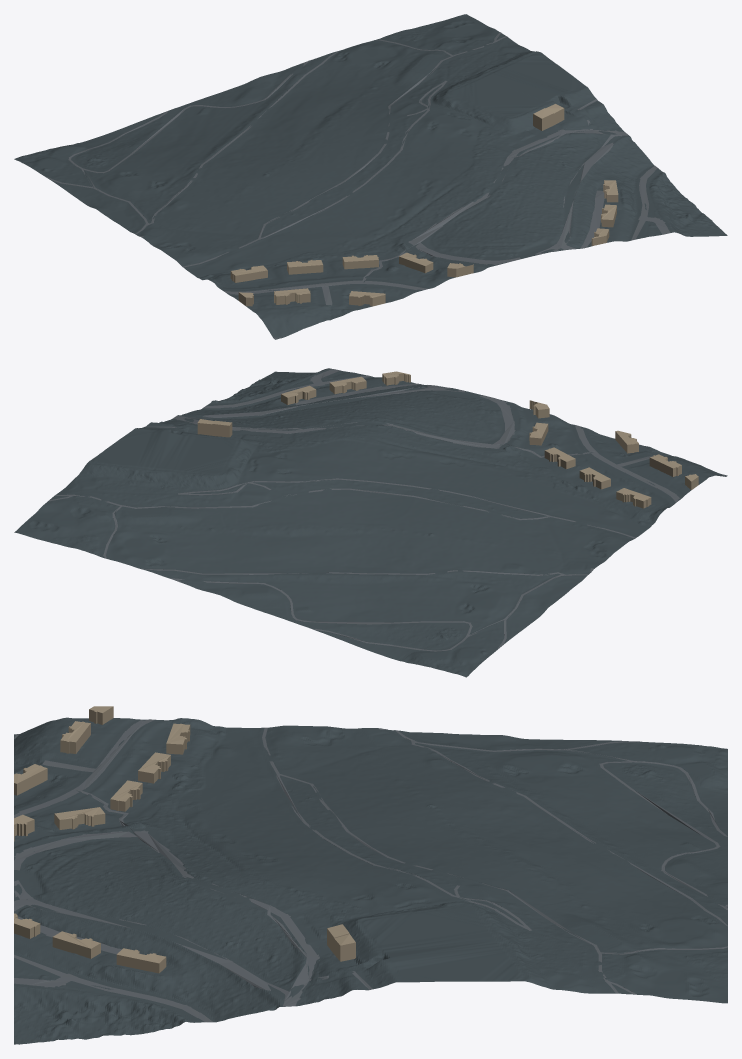
The model's file is epsg26910-1424-10893.lod0.glb.
3 renders of one model, top to bottom at view 1: azimuth 30°, elevation 25°; view 2: azimuth 150°, elevation 25°; view 3: azimuth 270°, elevation 25°, orthographic. The views are drawn at different scales.
Parts seen in each view (by area): view 1: epsg26910-1424-10893-lod0; view 2: epsg26910-1424-10893-lod0; view 3: epsg26910-1424-10893-lod0.
Boxes of the visible parts, left/top/right/bottom form: epsg26910-1424-10893-lod0: left=14, top=14, right=727, bottom=339; epsg26910-1424-10893-lod0: left=14, top=368, right=727, bottom=677; epsg26910-1424-10893-lod0: left=14, top=706, right=727, bottom=1044.
Bounding box in the file's own units: 384 × 45.92 × 384.
